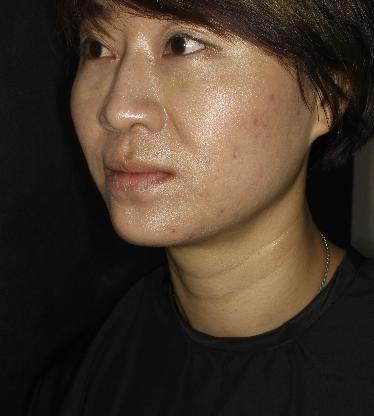Blackheads: (217, 206, 227, 217)
acne scar: (264, 91, 280, 104), (230, 151, 243, 162), (168, 225, 179, 238)
